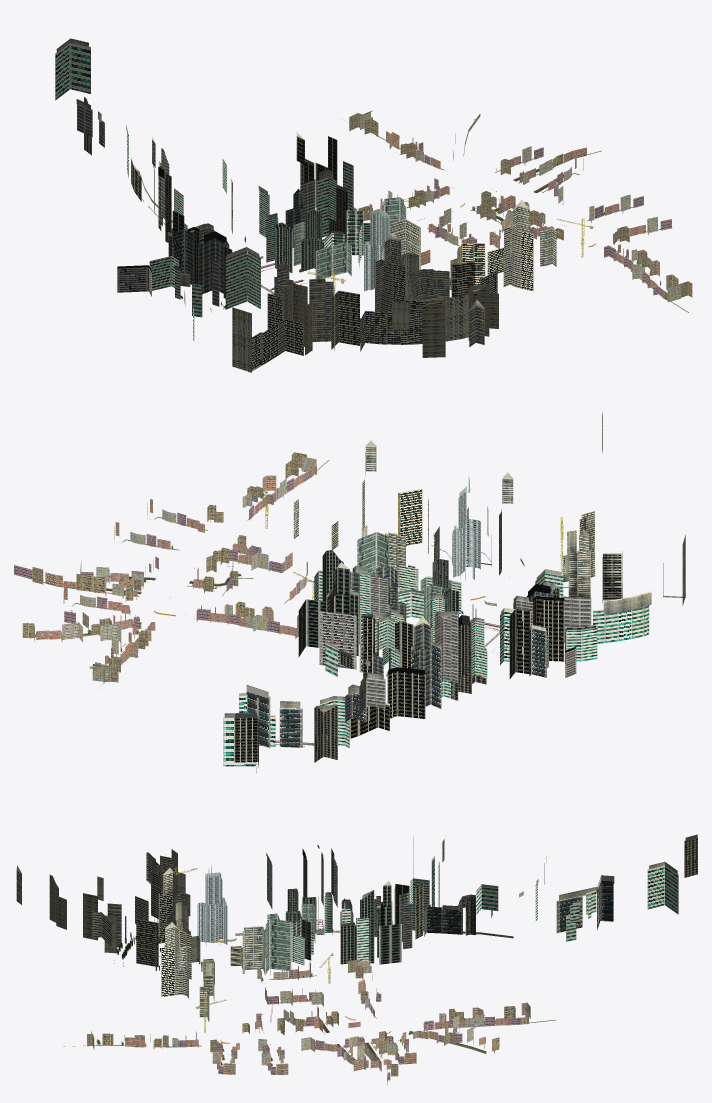
The model's file is track-US_C2_V1_env.glb.
3 views of the same model, one above another, from view 1: azimuth 30°, elevation 25°; view 2: azimuth 150°, elevation 25°; view 3: azimuth 270°, elevation 25° (orthographic). The views are drawn at different scales.
Visible parts, largest first — view 1: US_C2_V1_env; view 2: US_C2_V1_env; view 3: US_C2_V1_env.
Boxes of the visible parts, x1=… form: US_C2_V1_env: x1=55, y1=38, x2=692, y2=372; US_C2_V1_env: x1=14, y1=411, x2=685, y2=772; US_C2_V1_env: x1=16, y1=834, x2=697, y2=1085.
Size of the model in its own units: 2796 by 522 by 3627.
11 materials, 11 textured.
